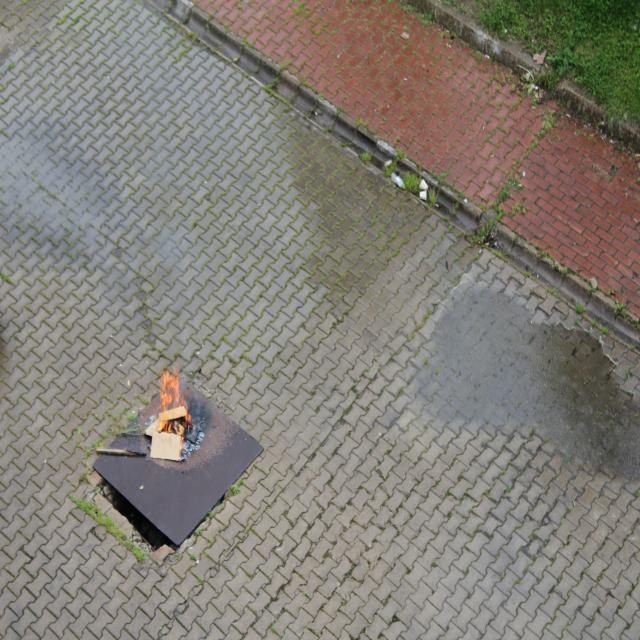fire: (142, 342, 210, 451)
